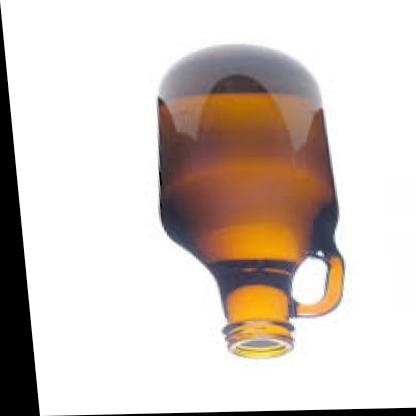trash: (158, 45, 343, 356)
